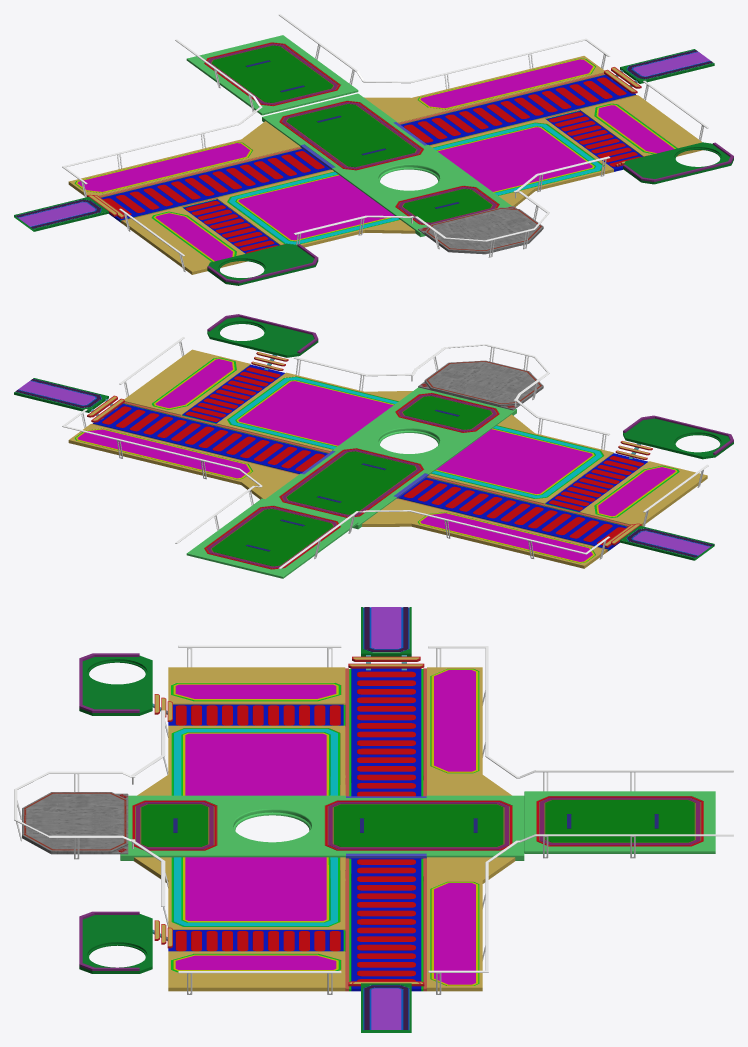
File: Bridge_Floor.fbx
3 views of the same model, one above another, from view 1: azimuth 30°, elevation 25°; view 2: azimuth 150°, elevation 25°; view 3: azimuth 270°, elevation 25° (orthographic). The views are drawn at different scales.
Visible parts, largest first — view 1: Ramp_Side, Ramp_Mid, Ramp_Side_Top, Railing, Ramp_Mid_Top; view 2: Ramp_Side, Ramp_Mid, Ramp_Side_Top, Railing, Ramp_Mid_Top; view 3: Ramp_Side, Ramp_Mid, Ramp_Side_Top, Railing, Ramp_Mid_Top.
Part boxes in pixels (bbox=[...]): Ramp_Side: bbox=[68, 56, 703, 274]; Ramp_Mid: bbox=[186, 35, 511, 236]; Ramp_Side_Top: bbox=[14, 49, 733, 285]; Railing: bbox=[62, 14, 708, 272]; Ramp_Mid_Top: bbox=[418, 206, 543, 254]; Ramp_Side: bbox=[68, 349, 707, 568]; Ramp_Mid: bbox=[186, 387, 516, 578]; Ramp_Side_Top: bbox=[14, 314, 733, 560]; Railing: bbox=[62, 337, 708, 569]; Ramp_Mid_Top: bbox=[418, 360, 543, 410]; Ramp_Side: bbox=[134, 667, 515, 991]; Ramp_Mid: bbox=[120, 791, 715, 860]; Ramp_Side_Top: bbox=[79, 607, 424, 1032]; Railing: bbox=[14, 645, 733, 994]; Ramp_Mid_Top: bbox=[22, 792, 128, 854].
Size of what is drawn, in the model's own units: 3651 by 130 by 2628.
